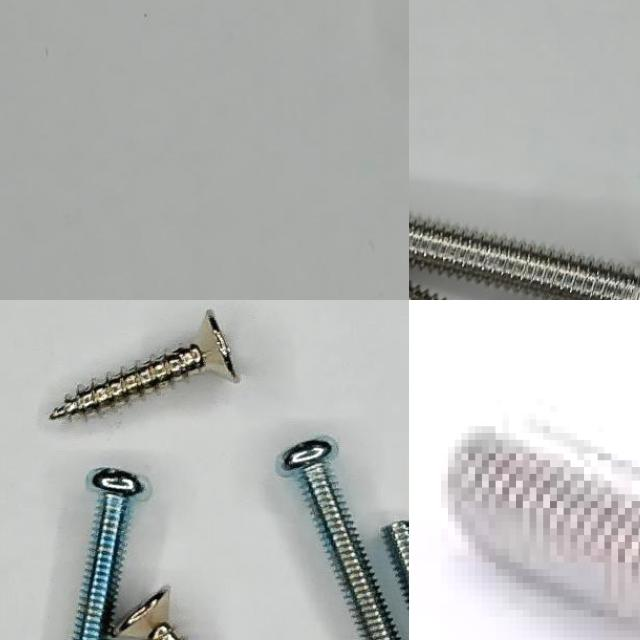Screw: (441, 433, 640, 627), (282, 439, 401, 640), (50, 311, 236, 418), (409, 214, 640, 300), (72, 468, 143, 640), (112, 587, 182, 640)
